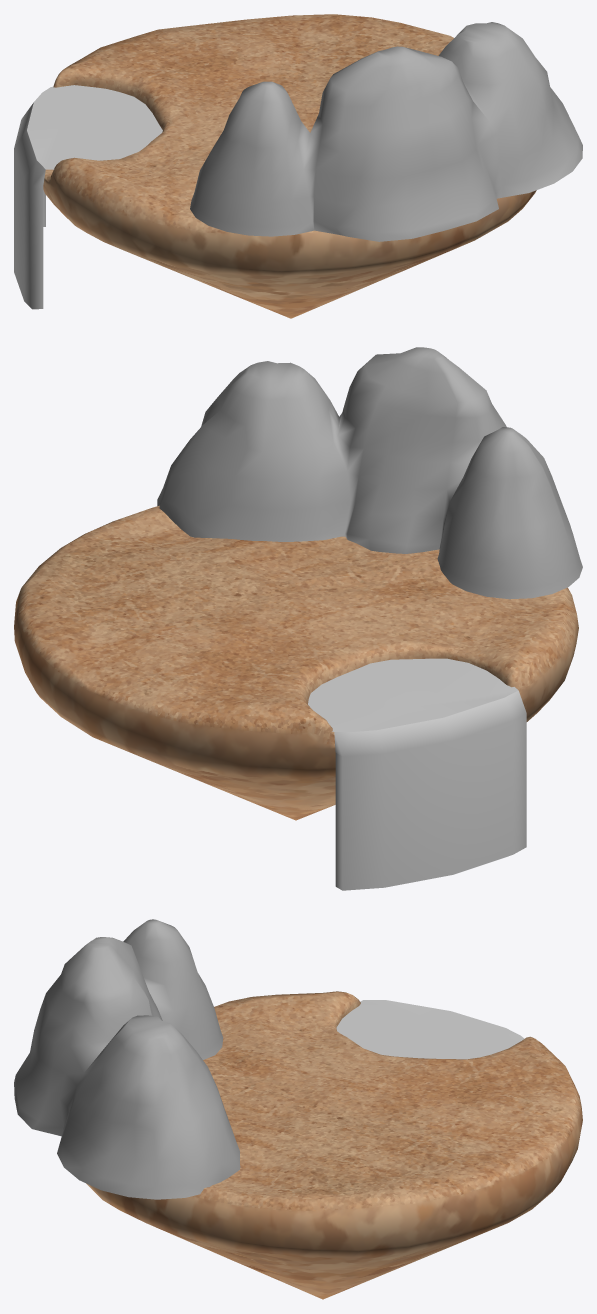
File: Environment.fbx
3 renders of one model, top to bottom at view 1: azimuth 30°, elevation 25°; view 2: azimuth 150°, elevation 25°; view 3: azimuth 270°, elevation 25°, orthographic. The views are drawn at different scales.
Parts seen in each view (by area): view 1: Mountains, Base_LowRes_Mesh, Water; view 2: Base_LowRes_Mesh, Mountains, Water; view 3: Base_LowRes_Mesh, Mountains, Water.
Boxes of the visible parts, x1,y1,x2,y2 form: Mountains: (190, 22, 582, 241); Base_LowRes_Mesh: (43, 14, 536, 318); Water: (14, 85, 162, 309); Base_LowRes_Mesh: (14, 505, 578, 820); Mountains: (157, 347, 582, 599); Water: (308, 658, 526, 890); Base_LowRes_Mesh: (86, 991, 582, 1299); Mountains: (14, 919, 240, 1199); Water: (336, 1000, 524, 1059).
Bounding box in the file's own units: 50.94 × 37.26 × 54.48.
